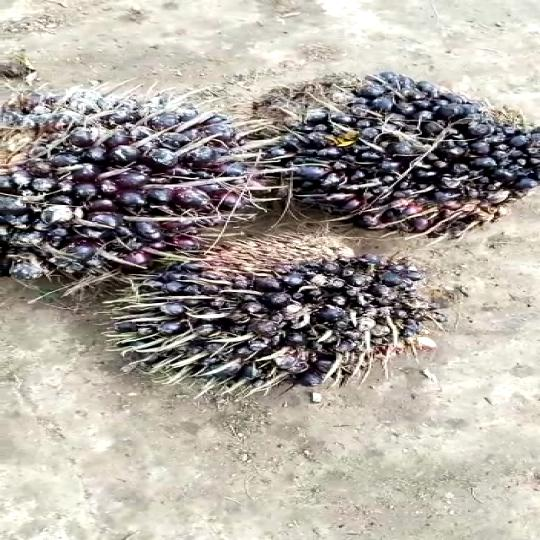mentah: (76, 238, 443, 398), (240, 63, 540, 243), (0, 66, 246, 276)
